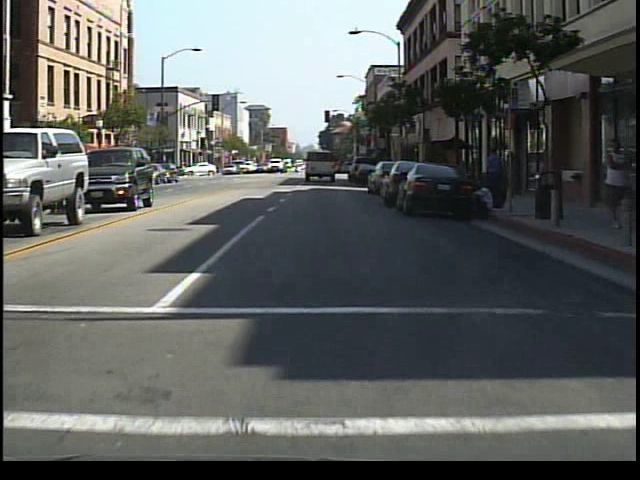person: (597, 125, 631, 237), (483, 142, 507, 205), (500, 149, 523, 204)
